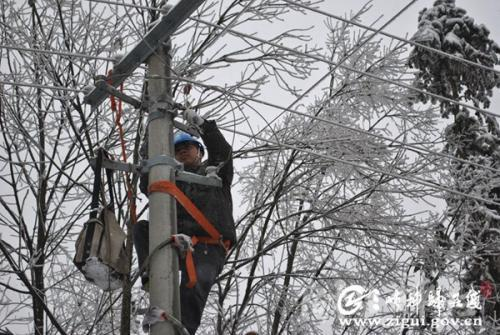helmet: (171, 130, 206, 169)
